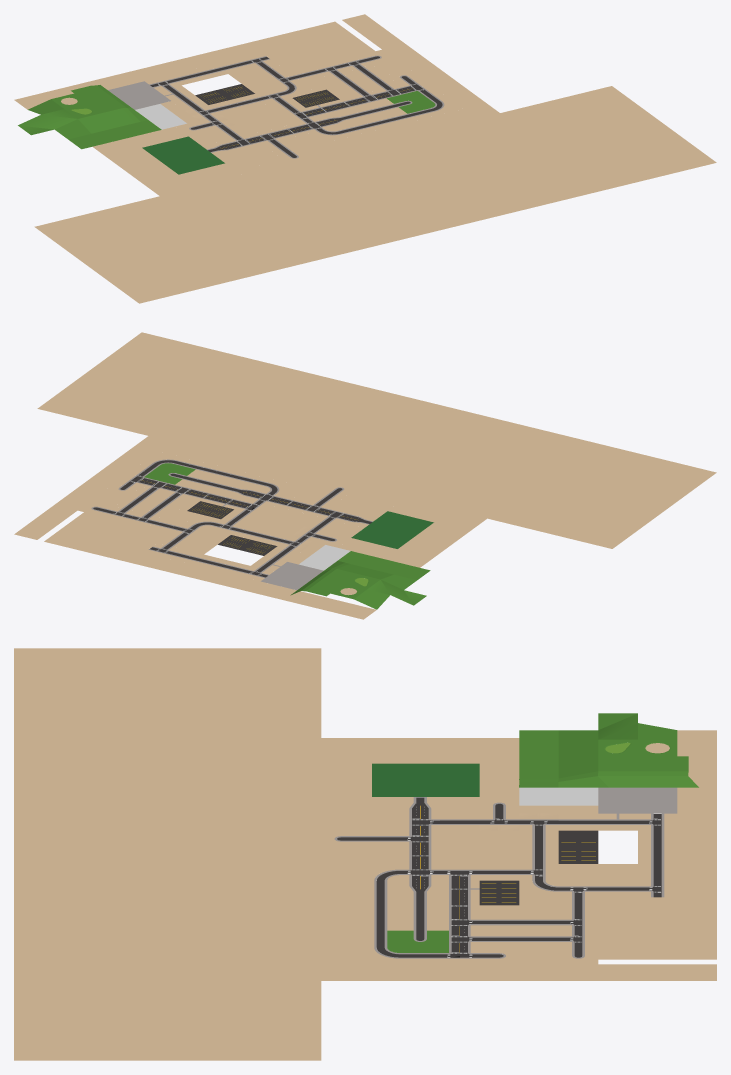
File: temp-world-floor.glb
The picture shows the model from 3 angles, top to bottom: view 1: azimuth 30°, elevation 25°; view 2: azimuth 150°, elevation 25°; view 3: azimuth 270°, elevation 25°; orthographic projection. The views are drawn at different scales.
Visible parts, largest first — view 1: temp-world-floor; view 2: temp-world-floor; view 3: temp-world-floor.
Part boxes in pixels (x1,y1,x2,y2): temp-world-floor: [14, 14, 716, 303]; temp-world-floor: [14, 332, 716, 619]; temp-world-floor: [14, 648, 716, 1060].
Size of the model in its own units: 740 by 6.22 by 533.
25 materials, 2 textured.
